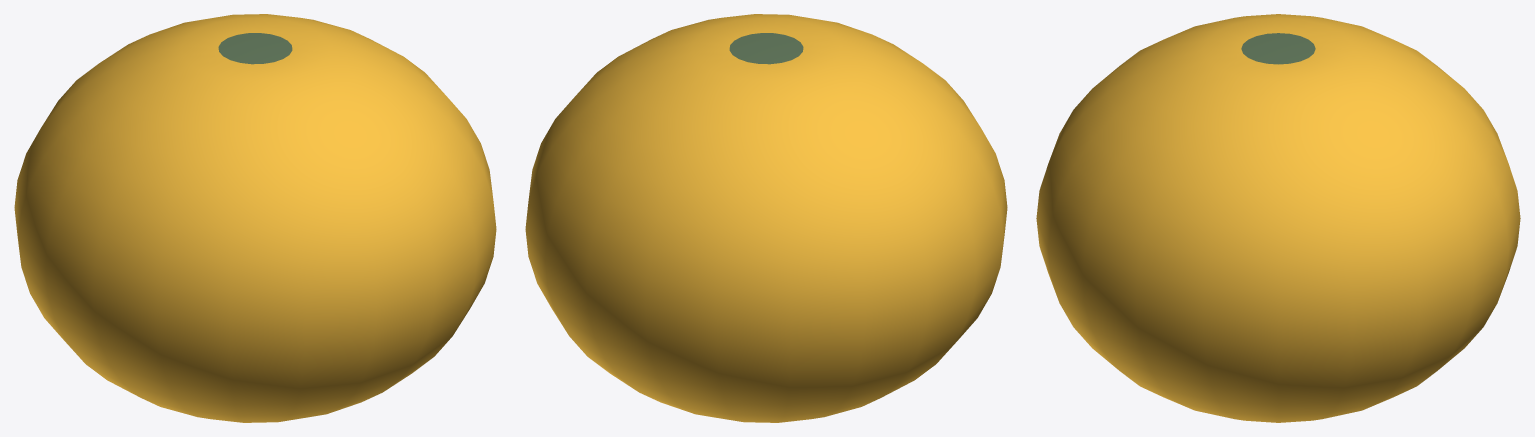
The model's file is tangerine.fbx.
3 views of the same model, side by side, from view 1: azimuth 30°, elevation 25°; view 2: azimuth 150°, elevation 25°; view 3: azimuth 270°, elevation 25° (orthographic).
Visible parts, largest first — view 1: pSphere1; view 2: pSphere1; view 3: pSphere1.
Boxes of the visible parts, <box> form: pSphere1: <box>14,14,496,422</box>; pSphere1: <box>525,14,1007,422</box>; pSphere1: <box>1036,14,1520,422</box>.
Bounding box in the file's own units: 2 × 1.59 × 2.
